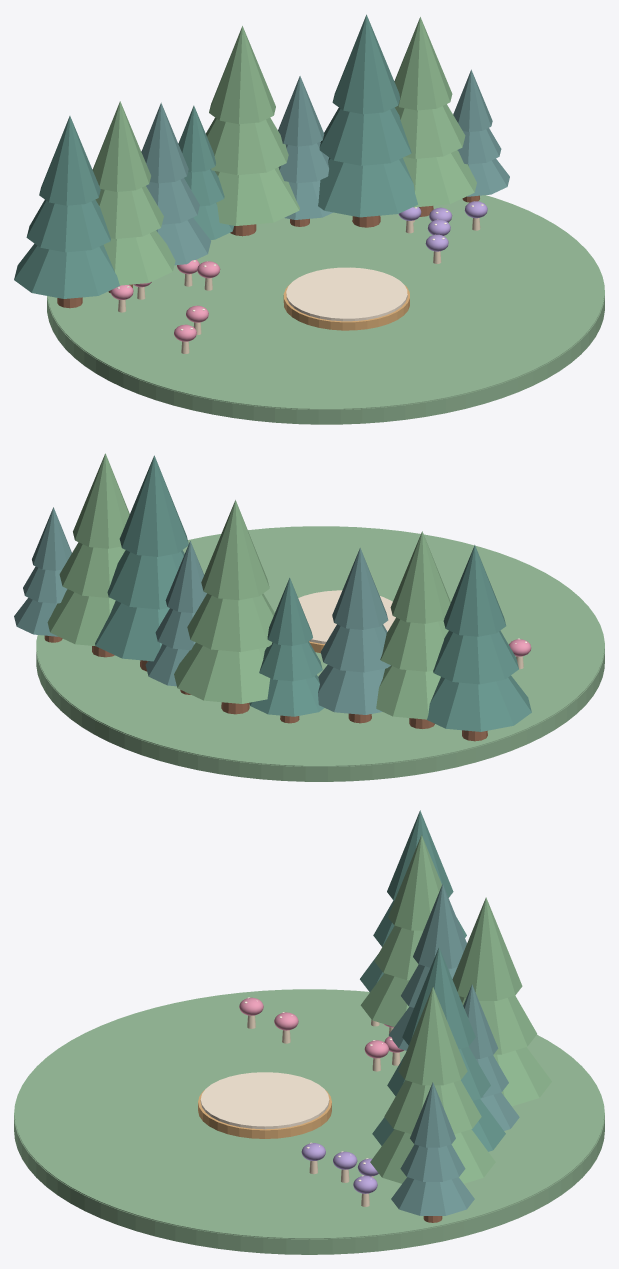
File: floresta.glb
The picture shows the model from 3 angles, top to bottom: view 1: azimuth 30°, elevation 25°; view 2: azimuth 150°, elevation 25°; view 3: azimuth 270°, elevation 25°; orthographic projection. The views are drawn at different scales.
Parts seen in each view (by area): view 1: Diorama piping.004, Diorama base.004, Look pedestal.004, Pine crown.018, Pine crown, Pine crown.019, Pine crown.020, Pine crown.012, Pine crown.014, Pine crown.013, Pine crown.001, Pine crown.023 (+19 smaller); view 2: Diorama piping.004, Diorama base.004, Pine crown, Pine crown.012, Pine crown.013, Pine crown.020, Pine crown.014, Pine crown.001, Pine crown.002, Pine crown.019, Pine crown.005, Pine crown.023 (+18 smaller); view 3: Diorama piping.004, Diorama base.004, Look pedestal.004, Pine crown.014, Pine crown.023, Pine crown.022, Pine crown.021, Pine crown.005, Pine crown.020, Pine crown.008, Pine crown.024, Pine crown.013 (+13 smaller).
Part boxes in pixels (x1,y1,x2,y2): Diorama piping.004: [47, 195, 604, 409]; Diorama base.004: [47, 258, 604, 424]; Look pedestal.004: [286, 267, 407, 321]; Pine crown.018: [318, 157, 417, 217]; Pine crown: [14, 243, 119, 298]; Pine crown.019: [319, 107, 411, 165]; Pine crown.020: [332, 14, 399, 114]; Pine crown.012: [215, 167, 299, 225]; Pine crown.014: [209, 26, 275, 124]; Pine crown.013: [206, 117, 288, 175]; Pine crown.001: [26, 199, 110, 252]; Pine crown.023: [394, 17, 452, 110]; Diorama piping.004: [37, 526, 604, 766]; Diorama base.004: [36, 606, 604, 781]; Pine crown: [427, 675, 531, 731]; Pine crown.012: [174, 642, 270, 703]; Pine crown.013: [187, 593, 274, 652]; Pine crown.020: [119, 455, 188, 556]; Pine crown.014: [201, 500, 269, 600]; Pine crown.001: [433, 630, 518, 684]; Pine crown.002: [443, 545, 506, 636]; Pine crown.019: [107, 550, 184, 609]; Pine crown.005: [390, 531, 450, 623]; Pine crown.023: [73, 453, 129, 548]; Diorama piping.004: [14, 989, 604, 1239]; Diorama base.004: [14, 1076, 604, 1254]; Look pedestal.004: [200, 1072, 329, 1129]; Pine crown.014: [452, 897, 522, 1000]; Pine crown.023: [398, 987, 467, 1085]; Pine crown.022: [384, 1080, 481, 1134]; Pine crown.021: [370, 1129, 495, 1183]; Pine crown.005: [388, 835, 441, 930]; Pine crown.020: [402, 947, 475, 1049]; Pine crown.008: [413, 884, 466, 968]; Pine crown.024: [391, 1177, 474, 1215]; Pine crown.013: [459, 995, 536, 1054].
Size of what is drawn, in the model's own units: 8.8 by 3.8 by 8.64.
